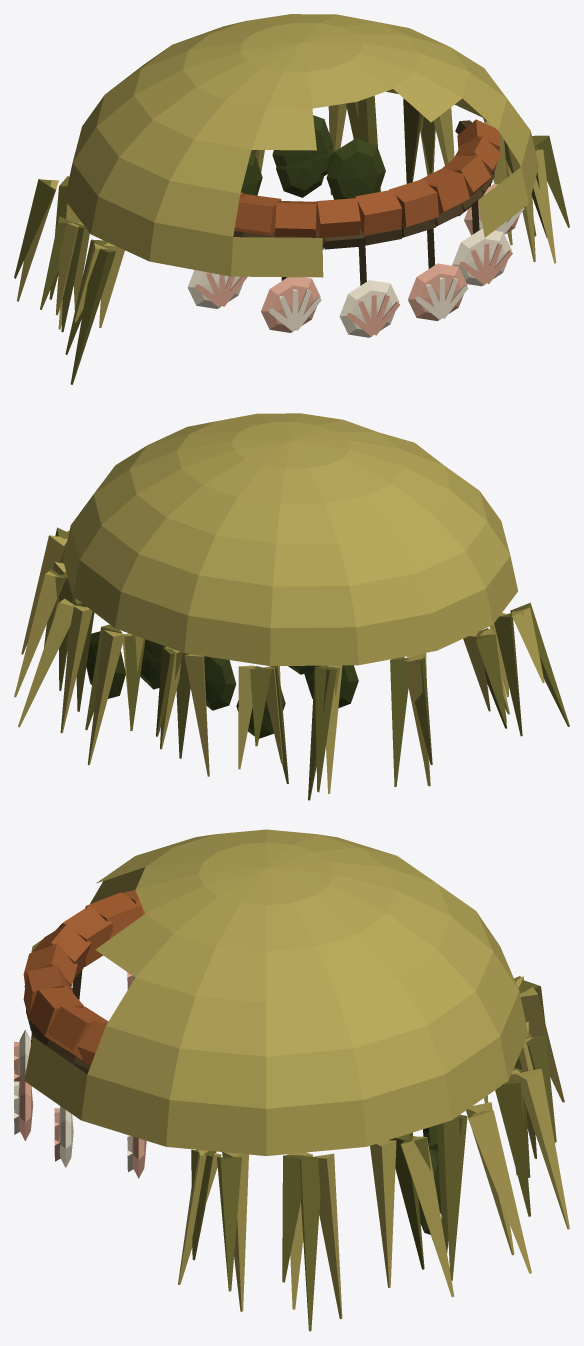
Rendered from pondkin_bloatking_chest.glb.
3 renders of one model, top to bottom at view 1: azimuth 30°, elevation 25°; view 2: azimuth 150°, elevation 25°; view 3: azimuth 270°, elevation 25°, orthographic. The views are drawn at different scales.
Parts seen in each view (by area): view 1: pondkin_bloatking_chest; view 2: pondkin_bloatking_chest; view 3: pondkin_bloatking_chest.
Part boxes in pixels (bbox=[...]): pondkin_bloatking_chest: bbox=[14, 14, 569, 384]; pondkin_bloatking_chest: bbox=[14, 413, 569, 800]; pondkin_bloatking_chest: bbox=[14, 829, 569, 1331].
Size of the model in its own units: 1.34 by 0.6883 by 1.06.
